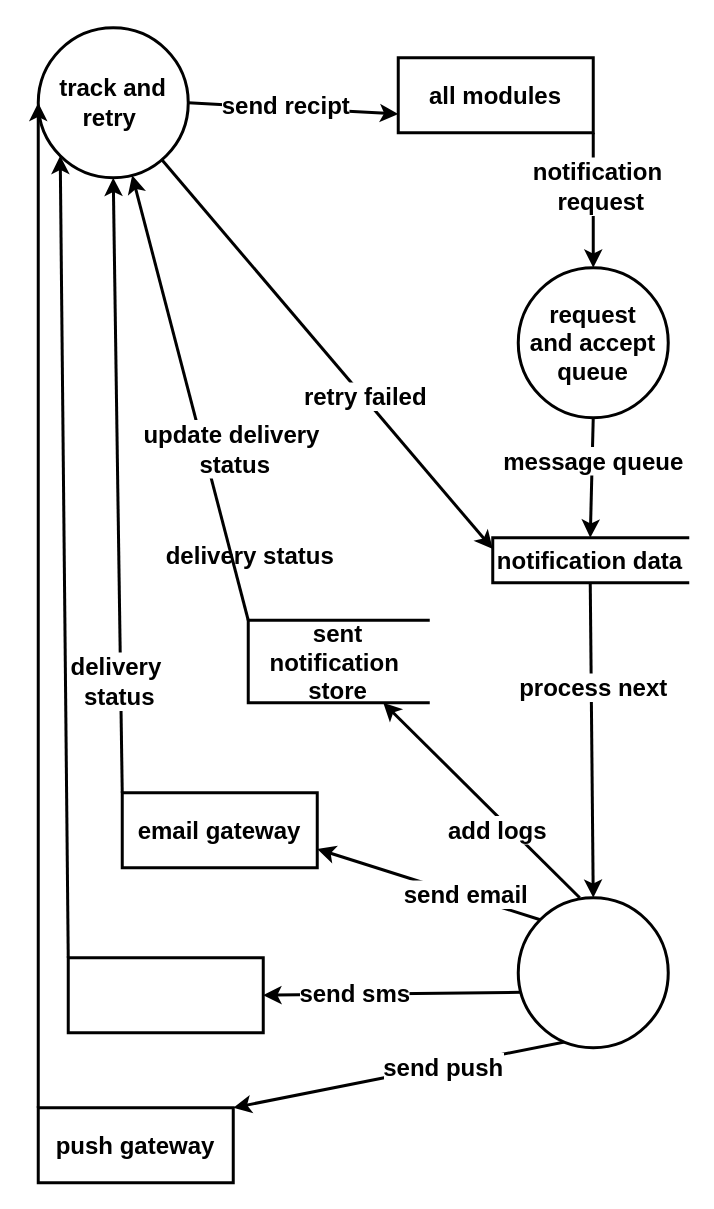
Some shapes in this 714 by 1209 pixel diagram are drawn without their labels. The shapes that lost their labels are listed below. From the top down, each one's box as (x1, y1, x2, y2) in pixels, then its label:
(516, 896, 669, 1048): format and send
(66, 956, 264, 1034): sms gateway
